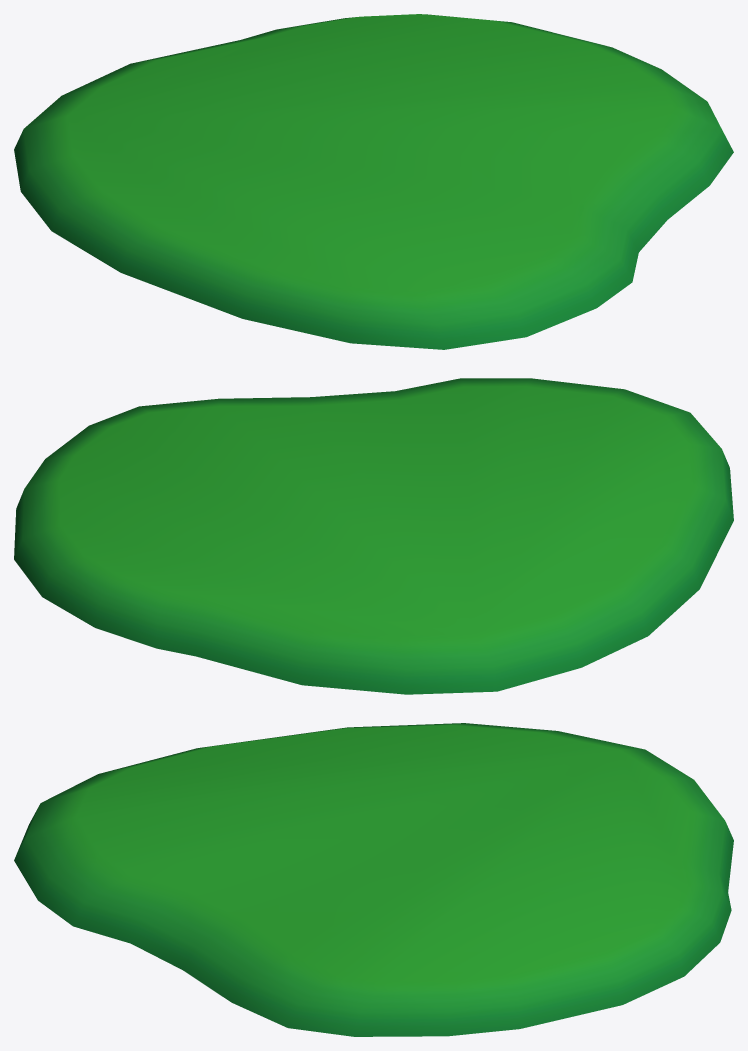
File: GrassPlane_2_B.fbx
3 renders of one model, top to bottom at view 1: azimuth 30°, elevation 25°; view 2: azimuth 150°, elevation 25°; view 3: azimuth 270°, elevation 25°, orthographic. The views are drawn at different scales.
Parts seen in each view (by area): view 1: GrassPlane_2_B; view 2: GrassPlane_2_B; view 3: GrassPlane_2_B.
Boxes of the visible parts, x1,y1,x2,y2 form: GrassPlane_2_B: (14, 14, 733, 349); GrassPlane_2_B: (14, 378, 733, 694); GrassPlane_2_B: (14, 723, 733, 1036).
Size of the model in its own units: 67.76 by 3.81 by 69.53.
